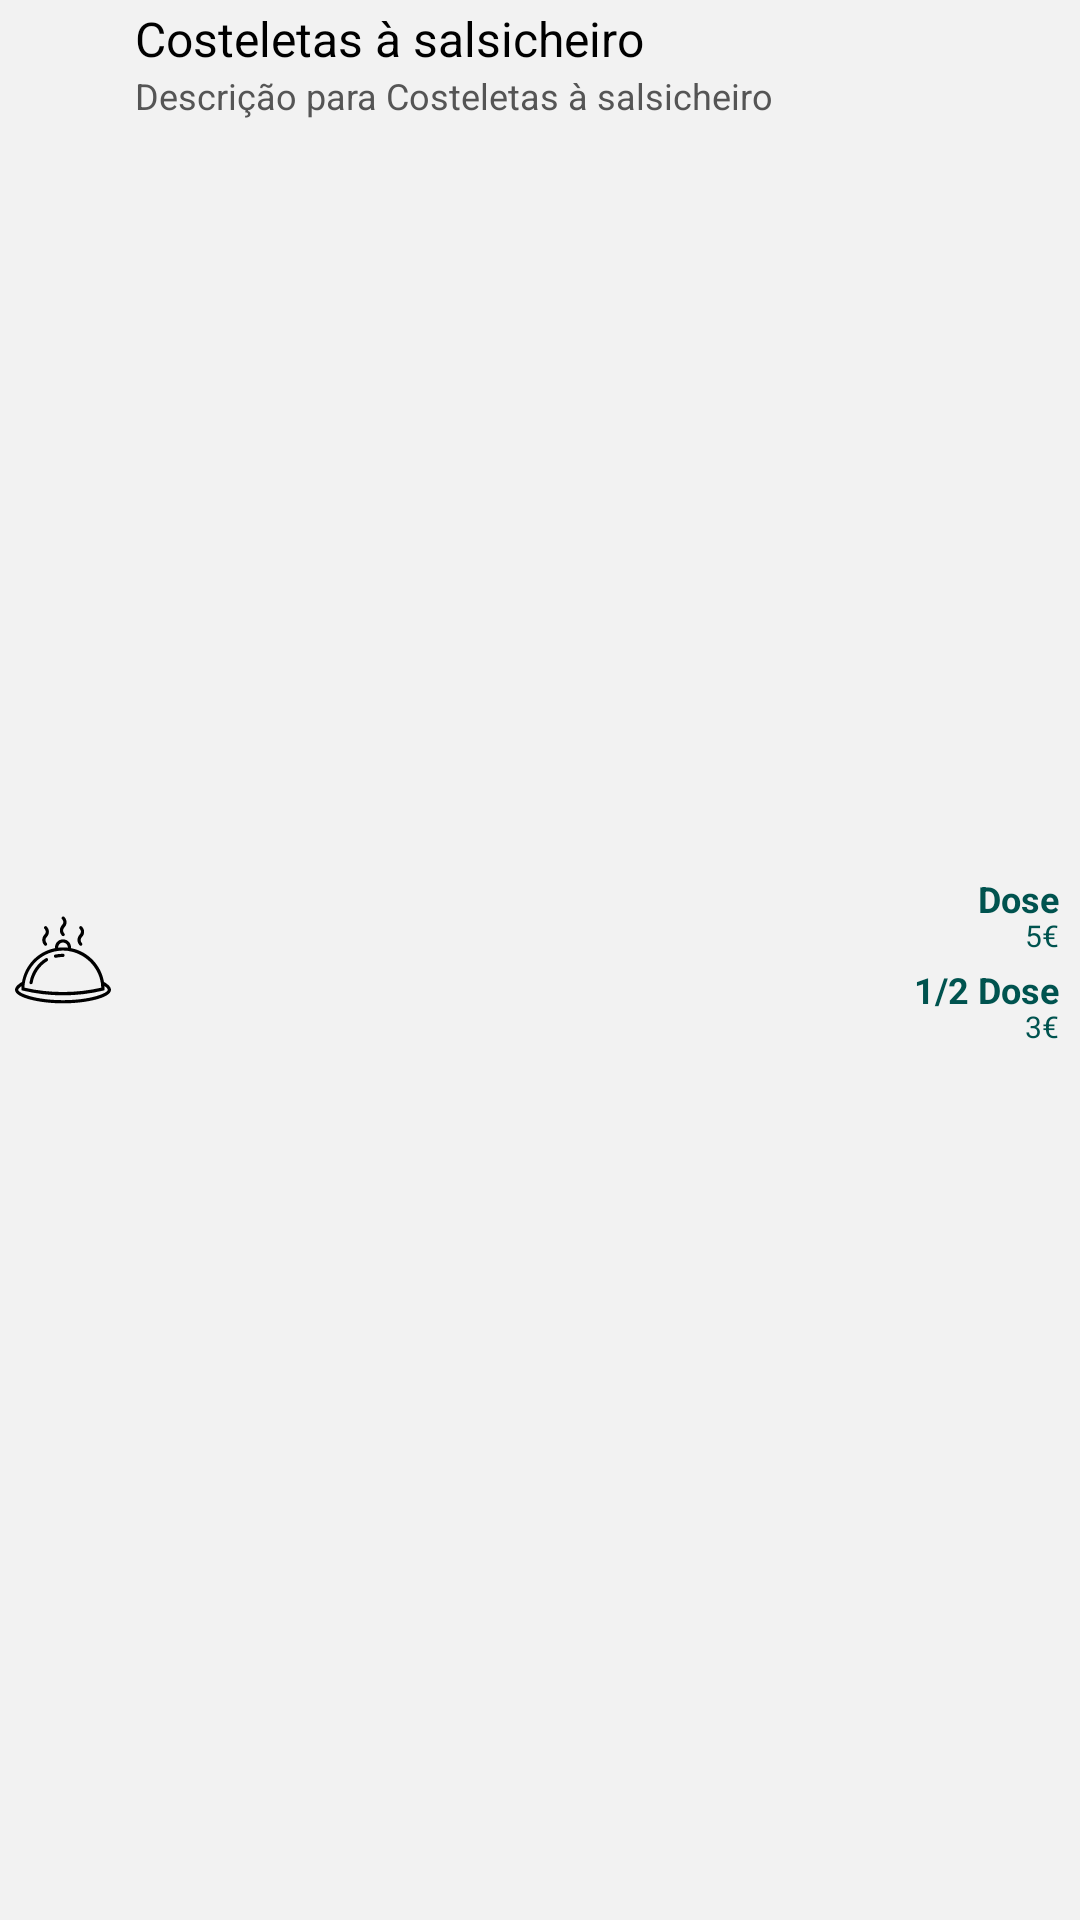

Icons on this 1080px x 1920px Android screen, each with its box as (x1, y1, x2, y2):
food: (15, 916, 111, 1004)
